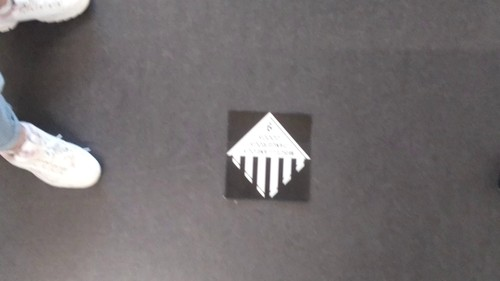misgoods: (230, 113, 315, 203)
